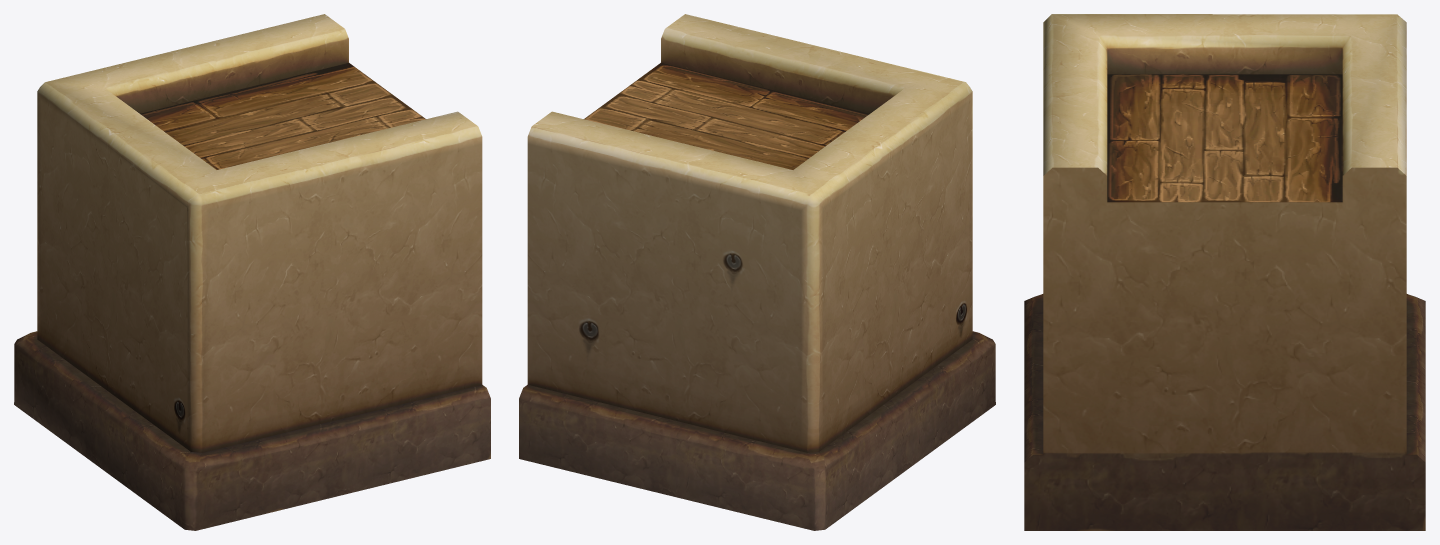
The model's file is DE_House_Mod_Part_03.fbx.
3 renders of one model, left to right at view 1: azimuth 30°, elevation 25°; view 2: azimuth 150°, elevation 25°; view 3: azimuth 270°, elevation 25°, orthographic. The views are drawn at different scales.
Visible parts, largest first — view 1: DE_House_Mod_Part_03; view 2: DE_House_Mod_Part_03; view 3: DE_House_Mod_Part_03.
Boxes of the visible parts, left/top/right/bottom form: DE_House_Mod_Part_03: left=14, top=14, right=490, bottom=530; DE_House_Mod_Part_03: left=519, top=14, right=995, bottom=530; DE_House_Mod_Part_03: left=1024, top=14, right=1425, bottom=530.
Bounding box in the file's own units: 5.18 × 5.3 × 5.3.
